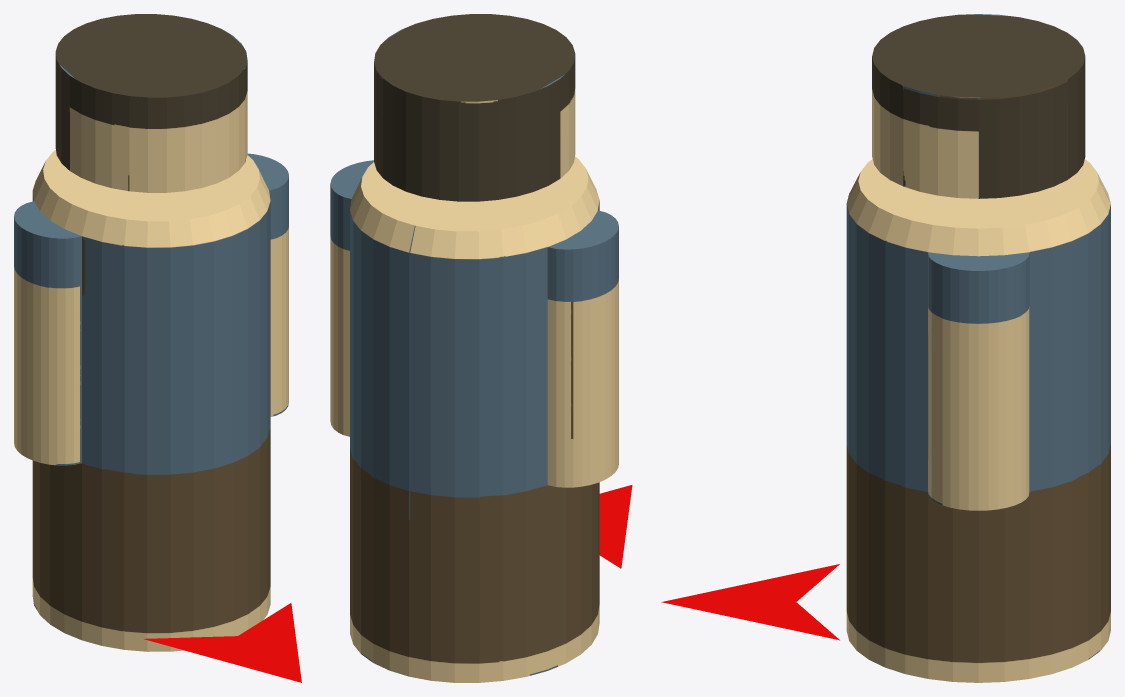
The model's file is enemy.fbx.
3 views of the same model, side by side, from view 1: azimuth 30°, elevation 25°; view 2: azimuth 150°, elevation 25°; view 3: azimuth 270°, elevation 25° (orthographic). The views are drawn at different scales.
Parts seen in each view (by area): view 1: mesh_Enemy, mesh_Point; view 2: mesh_Enemy, mesh_Point; view 3: mesh_Enemy, mesh_Point.
Part boxes in pixels (x1,y1,x2,y2): mesh_Enemy: [14, 14, 288, 651]; mesh_Point: [144, 603, 301, 682]; mesh_Enemy: [330, 14, 618, 682]; mesh_Point: [599, 485, 632, 568]; mesh_Enemy: [846, 14, 1110, 682]; mesh_Point: [661, 564, 839, 640].
Size of the model in its own units: 0.6 by 1.2 by 0.8509.
2 materials, 1 textured.
